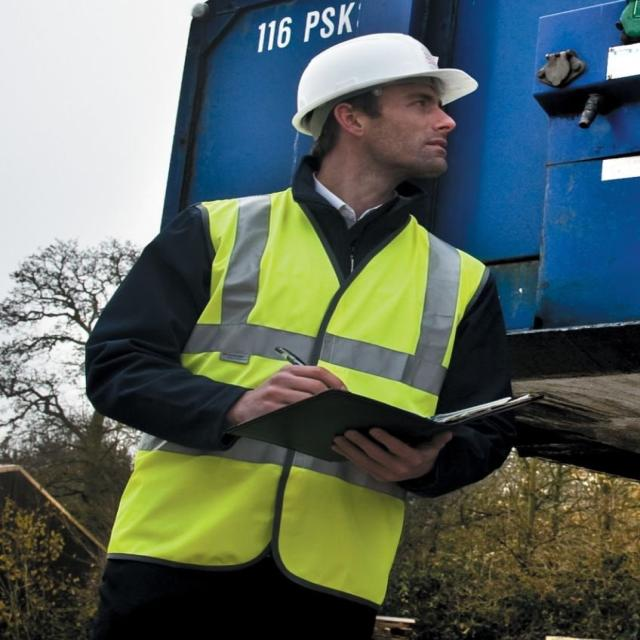helmet: (87, 33, 523, 640), (280, 34, 482, 111)
vest: (168, 198, 448, 579)
